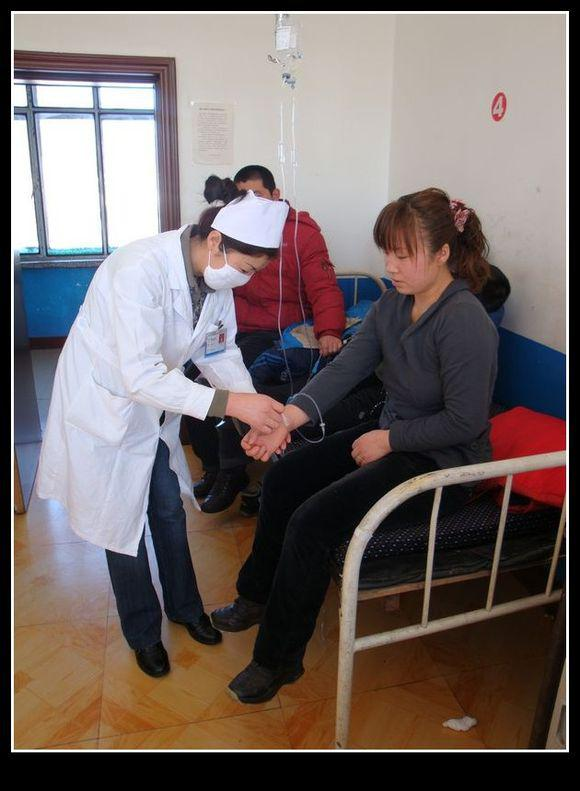NONE: (384, 246, 428, 293)
OK: (202, 240, 263, 292)
